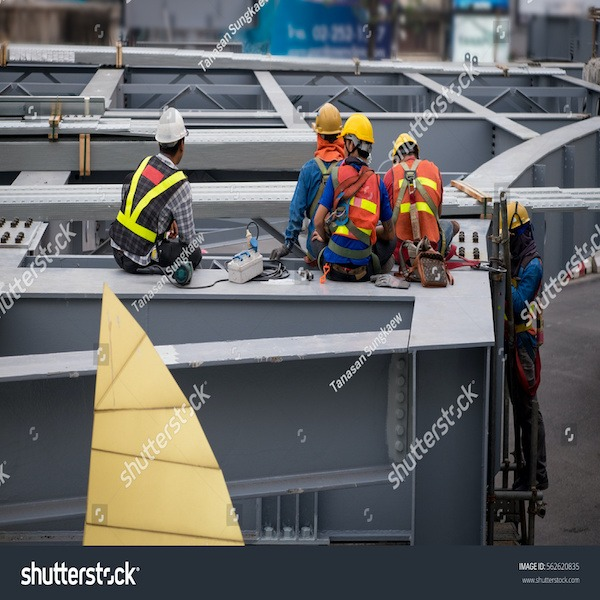helmet: (154, 106, 192, 142), (342, 111, 379, 140), (314, 102, 343, 138), (499, 198, 531, 230), (393, 130, 417, 152)
vest: (328, 156, 378, 245), (394, 163, 447, 245)
